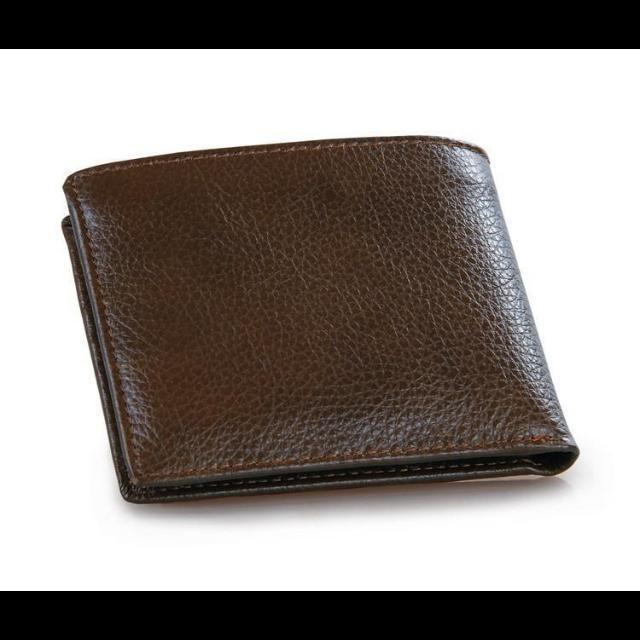Wallet: (55, 131, 583, 503)
